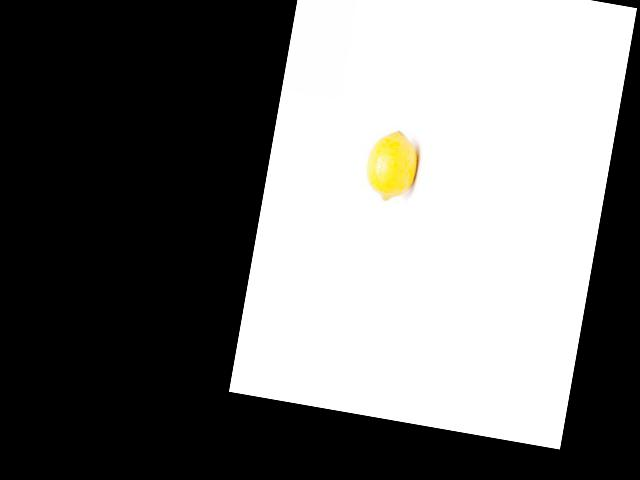lemon: (355, 125, 426, 210)
